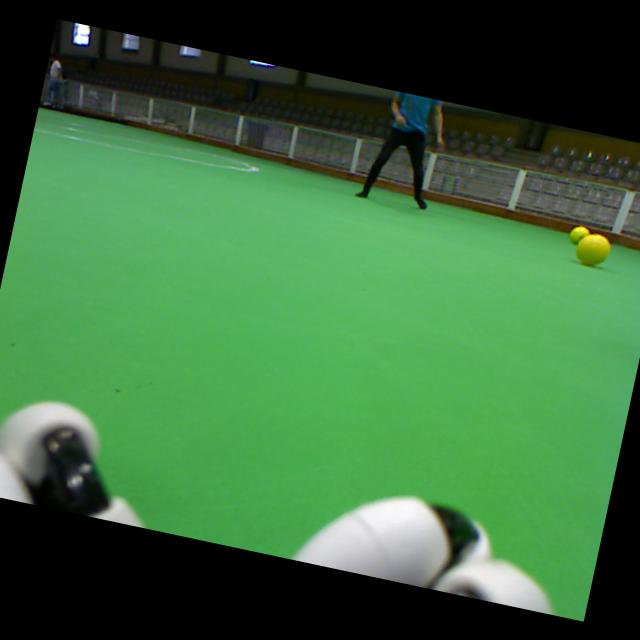ball: (576, 234, 609, 264), (572, 226, 587, 244)
